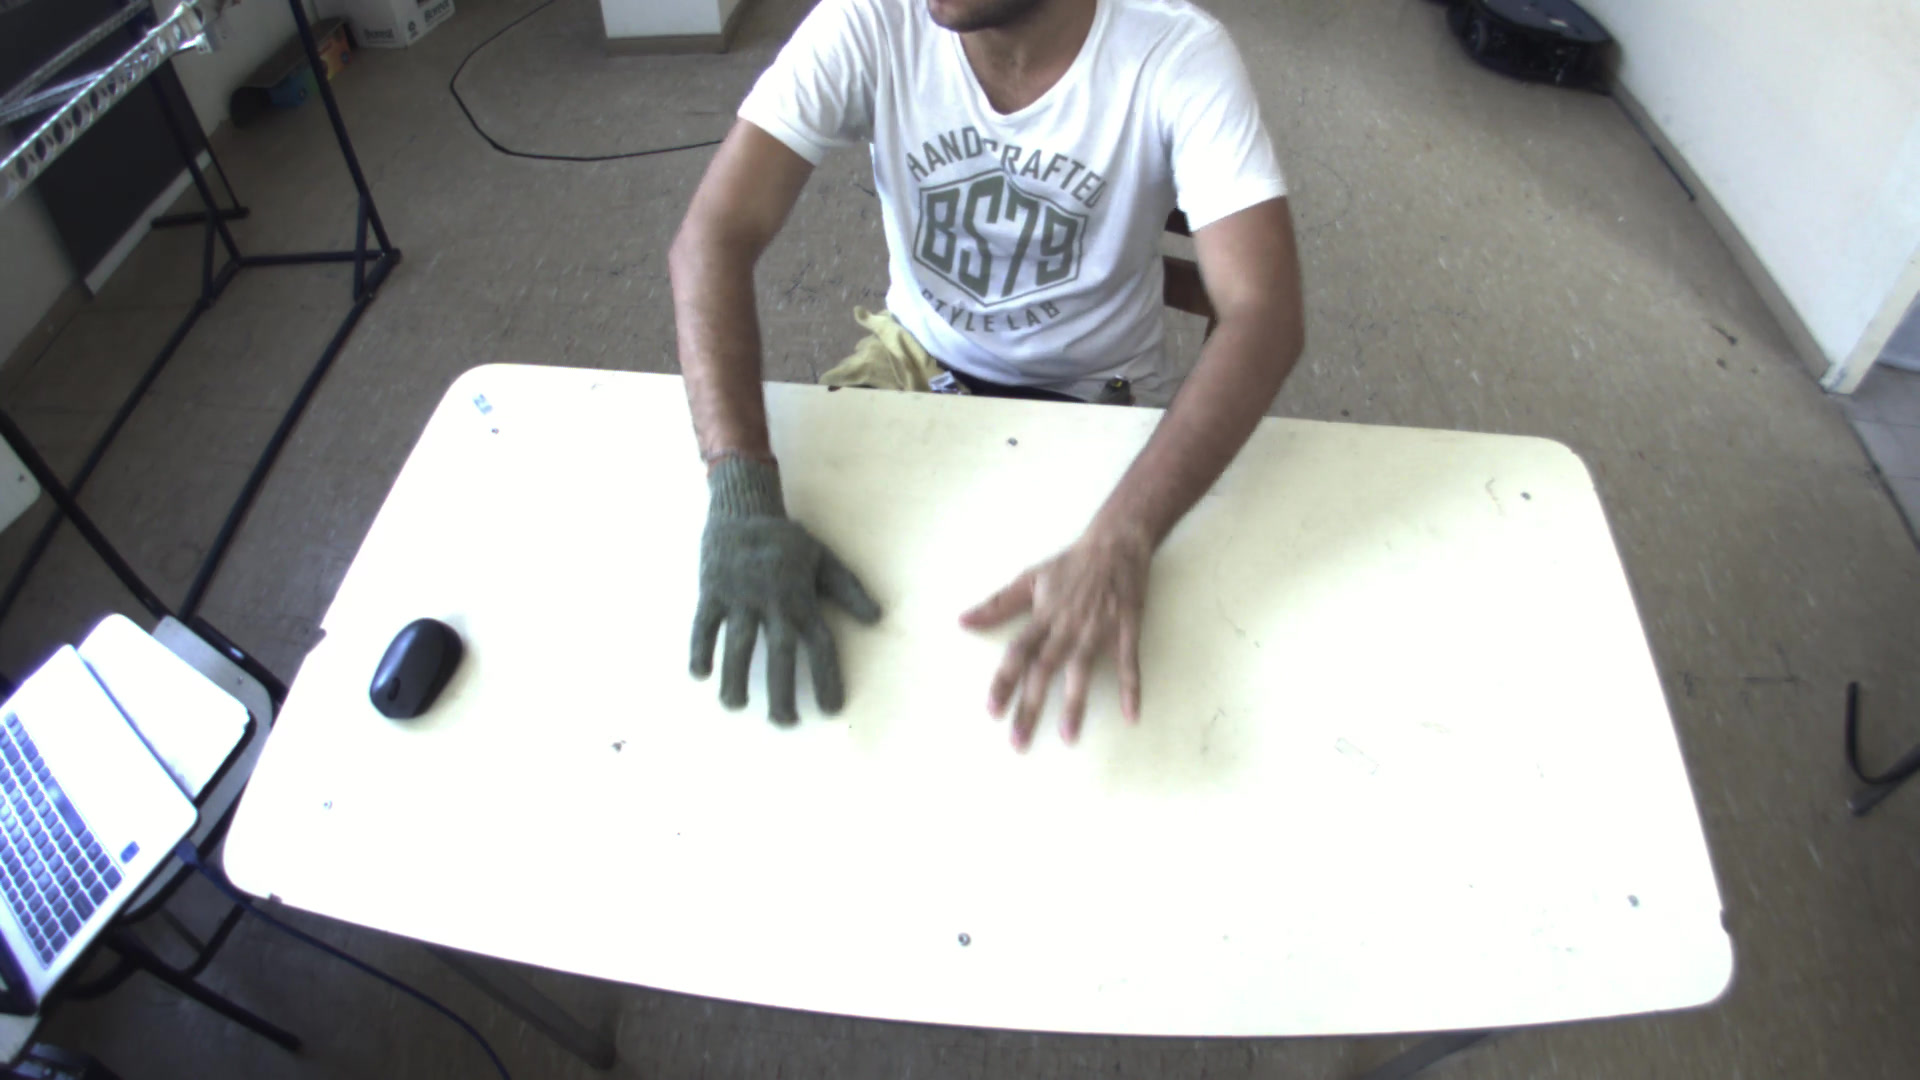hand: (666, 431, 876, 735), (949, 516, 1174, 757)
